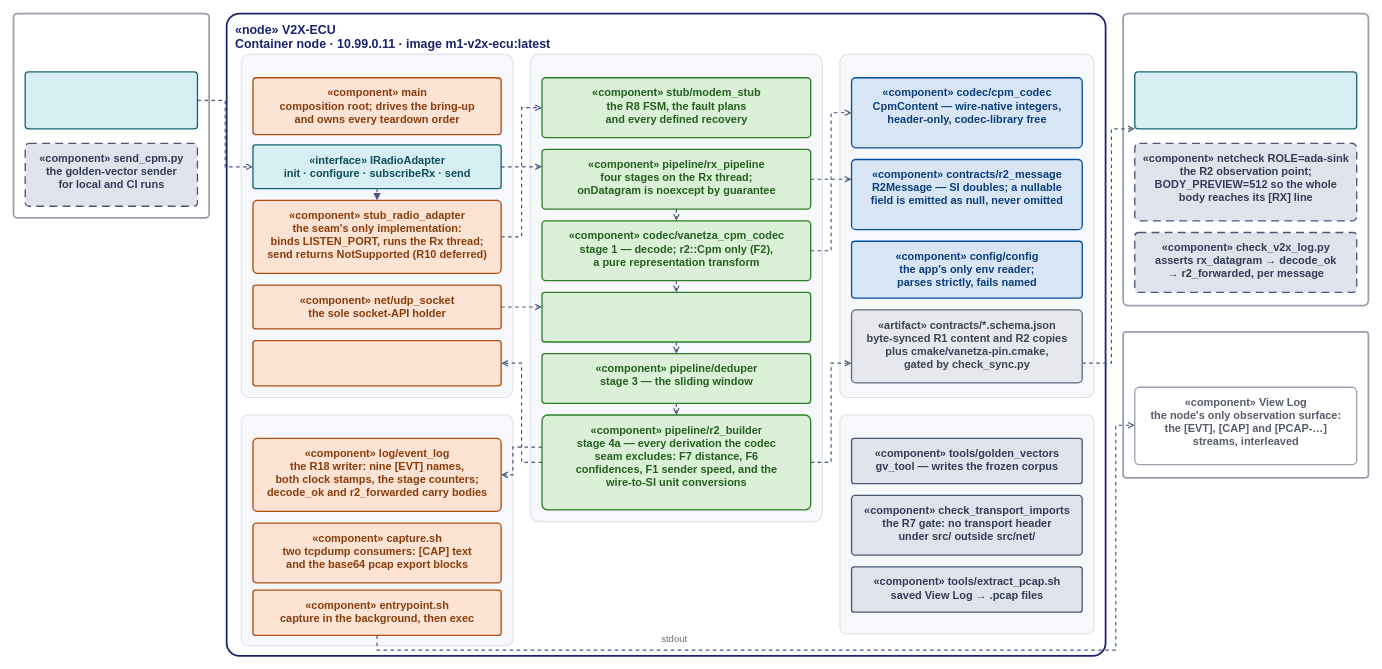
The diagram is 1382 pixels wide and 669 high, and some of its shapes have lost their labels. The shapes that lost their labels are listed below. From the top down, each one's box as (x1, y1, x2, y2) in pixels, then its label:
(24, 71, 198, 129): «interface» Bench UPER CPM → :47100 the R1 producer (F5)
(12, 12, 210, 218): «node» Bench Container node · 10.99.0.10
(1134, 71, 1357, 129): «interface» ADA-ECU R2 JSON → :47200 the R2 consumer
(1122, 12, 1369, 306): «node» ADA-ECU Container node · 10.99.0.12
(240, 53, 513, 398): «subsystem» UI logic — the controller
(839, 53, 1094, 398): «subsystem» Data
(529, 53, 823, 522): «subsystem» Business logic
(541, 291, 811, 342): «component» pipeline/validator stage 2 — profile ranges and F9
(252, 340, 501, 386): «component» forward/ada_forwarder the intra-ego R2 edge — fire and forget
(1122, 331, 1369, 478): CarSky platform observation surface
(240, 414, 513, 646): «subsystem» Evidence — R18 and R6
(839, 414, 1094, 634): «subsystem» Tools — never in the image
